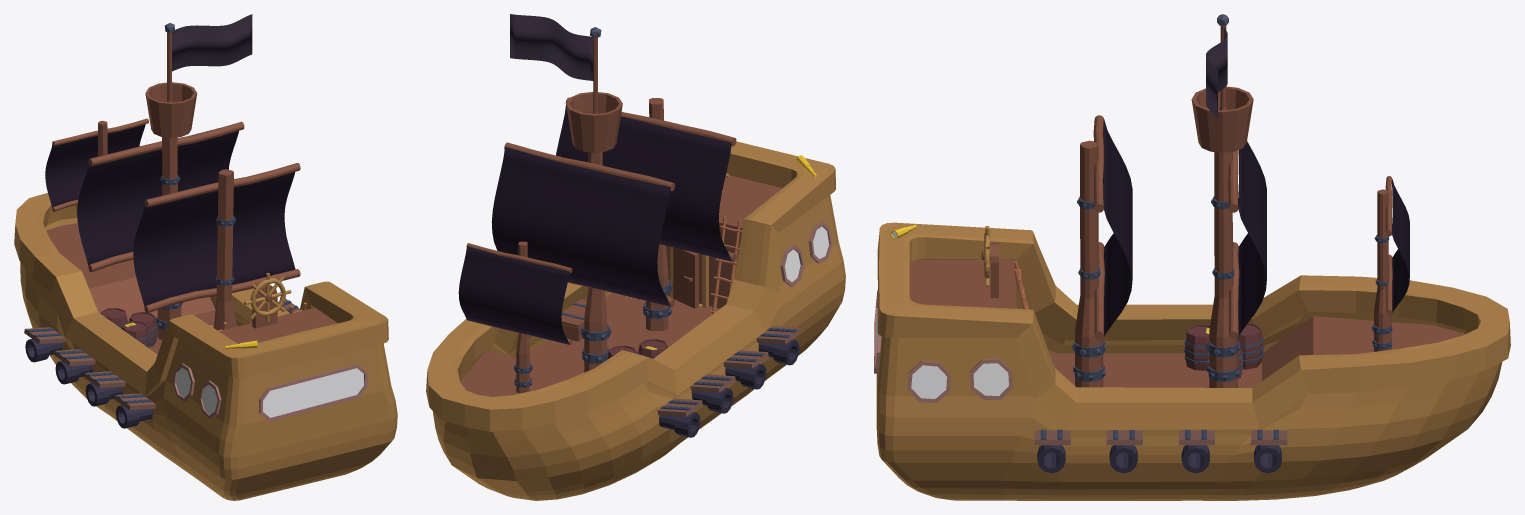
The model's file is Jacks_boat.fbx.
3 views of the same model, side by side, from view 1: azimuth 30°, elevation 25°; view 2: azimuth 150°, elevation 25°; view 3: azimuth 270°, elevation 25° (orthographic). The views are drawn at different scales.
Visible parts, largest first — view 1: Plane, Cylinder.002, Cylinder.017, Plane.002, Gun.001, Cylinder.026, Cylinder.024, Plane.005, Cylinder.031, Cylinder, Cylinder.010, Cylinder.023 (+5 smaller); view 2: Plane, Cylinder.017, Cylinder.002, Plane.002, Cylinder.026, Gun.001, Plane.005, Cylinder, Cylinder.010, Cube.002, Cylinder.031, Cylinder.025 (+5 smaller); view 3: Plane, Plane.002, Cylinder.002, Cylinder.017, Gun.006, Cylinder.010, Cylinder.031, Cylinder, Cylinder.026, Cylinder.025, Cylinder.021, Cylinder.020 (+3 smaller).
Boxes of the visible parts, box(x1,y1,x2,y2) form: Plane: box(14, 193, 397, 500); Cylinder.002: box(133, 163, 300, 313); Cylinder.017: box(77, 121, 244, 272); Plane.002: box(46, 223, 337, 354); Gun.001: box(24, 327, 155, 428); Cylinder.026: box(45, 118, 148, 211); Cylinder.024: box(259, 364, 367, 421); Plane.005: box(172, 14, 252, 71); Cylinder.031: box(214, 169, 236, 330); Cylinder: box(145, 82, 197, 137); Cylinder.010: box(157, 32, 181, 340); Cylinder.023: box(199, 380, 221, 418); Plane: box(426, 141, 845, 500); Cylinder.017: box(491, 142, 674, 307); Cylinder.002: box(556, 97, 736, 262); Plane.002: box(460, 175, 782, 396); Cylinder.026: box(458, 243, 572, 345); Gun.001: box(657, 326, 801, 437); Plane.005: box(510, 14, 593, 80); Cylinder: box(566, 92, 622, 152); Cylinder.010: box(584, 37, 606, 372); Cube.002: box(673, 247, 698, 308); Cylinder.031: box(646, 98, 668, 330); Cylinder.025: box(516, 241, 529, 393); Plane: box(876, 222, 1510, 500); Plane.002: box(909, 260, 1465, 387); Cylinder.002: box(1093, 115, 1132, 339); Cylinder.017: box(1228, 141, 1266, 339); Gun.006: box(1034, 429, 1287, 473); Cylinder.010: box(1209, 25, 1237, 387); Cylinder.031: box(1075, 140, 1103, 387); Cylinder: box(1191, 86, 1253, 152); Cylinder.026: box(1385, 176, 1409, 315); Cylinder.025: box(1374, 189, 1391, 351); Cylinder.021: box(907, 361, 950, 402); Cylinder.020: box(969, 358, 1012, 399).
Size of the model in its own units: 302 by 487 by 611.
